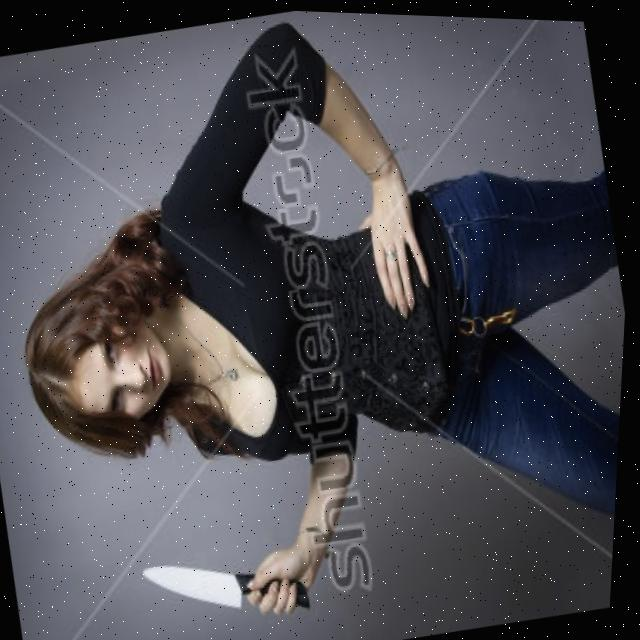knife: (143, 544, 261, 637)
